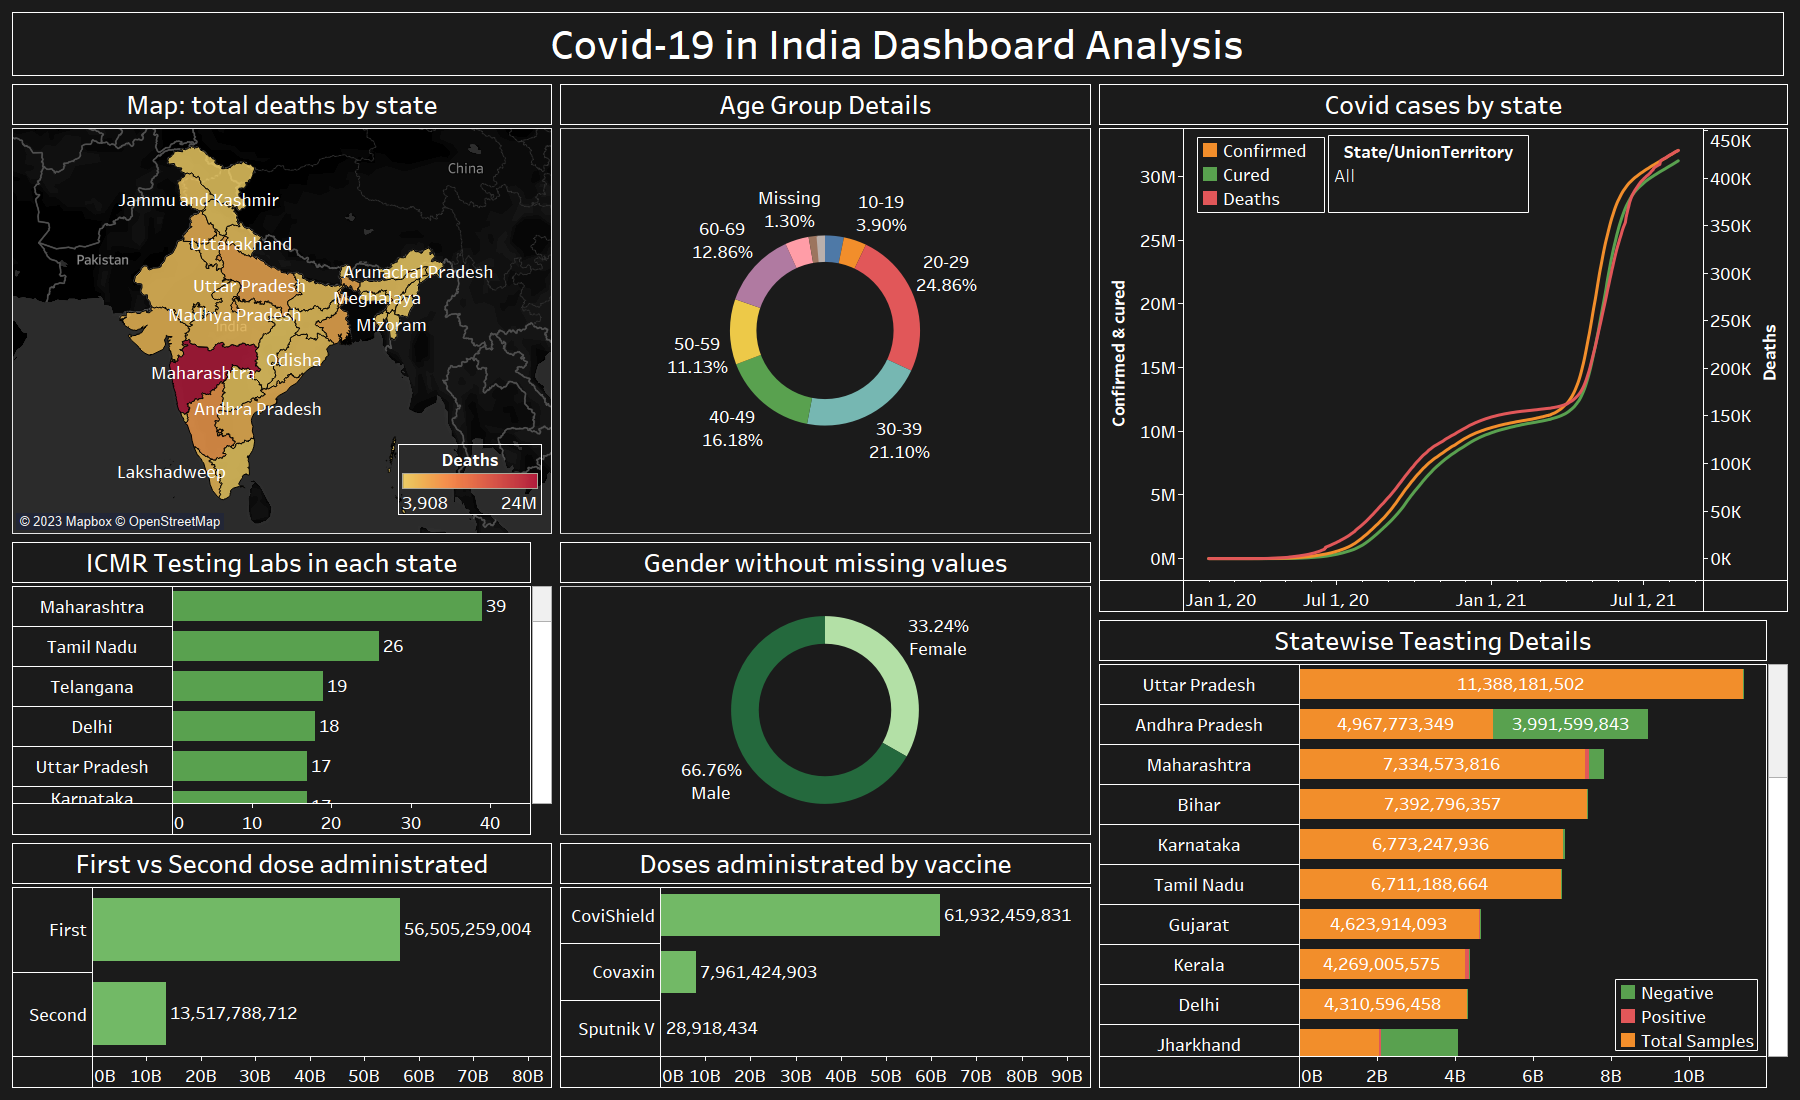

Layout of this report page (visuals, bound fields, positions):
{"tool":"tableau","page":{"name":"Dashboard 1","canvas":[1800,1100],"ordinal":0},"visuals":[{"type":"worksheet","title":"Title","mark":"Automatic","box":[8,8,1784,72]},{"type":"worksheet","title":"Map: total deaths by state","mark":"Automatic","box":[8,80,548,458]},{"type":"worksheet","title":"Age Group Details","mark":"Pie","rows":["Calculation_325948079712067589","Calculation_325948079712075783"],"box":[556,80,539,458]},{"type":"worksheet","title":"Covid cases by state","mark":"Automatic","rows":["Deaths"],"cols":["Date"],"box":[1095,80,697,536]},{"type":"filter","title":"Covid cases by state","param":"[federated.1njk6w10foriit17hqu6g0ispque].[none:State/UnionTerritory:nk]","box":[1328,135,201,78]},{"type":"legend","title":"Covid cases by state","param":"[federated.1njk6w10foriit17hqu6g0ispque].[:Measure Names]","box":[1197,137,128,76]},{"type":"legend","title":"Map: total deaths by state","param":"[federated.1njk6w10foriit17hqu6g0ispque].[sum:Deaths:qk]","box":[398,444,144,78]},{"type":"worksheet","title":"ICMR Testing Labs in each state","mark":"Automatic","rows":["state"],"cols":["lab"],"box":[8,538,548,301]},{"type":"worksheet","title":"Gender without missing values","mark":"Pie","rows":["Calculation_325948079720153105","Calculation_325948079720161299"],"box":[556,538,539,301]},{"type":"worksheet","title":"Statewise Teasting Details","mark":"Automatic","rows":["State"],"box":[1095,616,697,476]},{"type":"worksheet","title":"First vs Second dose administrated","mark":"Automatic","box":[8,839,548,253]},{"type":"worksheet","title":"Doses administrated by vaccine","mark":"Automatic","box":[556,839,539,253]},{"type":"legend","title":"Statewise Teasting Details","param":"[federated.1e4b3tu1npvzjy10fx5l405duooa].[:Measure Names]","box":[1615,979,143,72]}]}

Visuals, with their boxes in screenshot pixels (x1, y1, x2, y2), scaled from the page's 1800x1100 canvas onto the 1800x1100 screenshot:
"Title" worksheet: left=8, top=8, right=1792, bottom=80
"Map: total deaths by state" worksheet: left=8, top=80, right=556, bottom=538
"Age Group Details" worksheet (Pie marks): left=556, top=80, right=1095, bottom=538
"Covid cases by state" worksheet: left=1095, top=80, right=1792, bottom=616
"Covid cases by state" filter: left=1328, top=135, right=1529, bottom=213
"Covid cases by state" legend: left=1197, top=137, right=1325, bottom=213
"Map: total deaths by state" legend: left=398, top=444, right=542, bottom=522
"ICMR Testing Labs in each state" worksheet: left=8, top=538, right=556, bottom=839
"Gender without missing values" worksheet (Pie marks): left=556, top=538, right=1095, bottom=839
"Statewise Teasting Details" worksheet: left=1095, top=616, right=1792, bottom=1092
"First vs Second dose administrated" worksheet: left=8, top=839, right=556, bottom=1092
"Doses administrated by vaccine" worksheet: left=556, top=839, right=1095, bottom=1092
"Statewise Teasting Details" legend: left=1615, top=979, right=1758, bottom=1051
